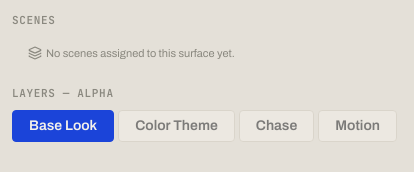
Test: Launcher › gates a layer button while its own toggle is in flight, so a rapid second click can't re-send the same target
Expected: the text "Layers — Alpha" is shown, [12,86,114,100]
Click the button "Base Look": (63, 126) [12,110,114,142]
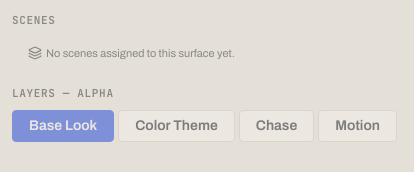
Result: the button "Base Look" is disabled
Click the button "Base Look": (63, 126) [12,110,114,142]
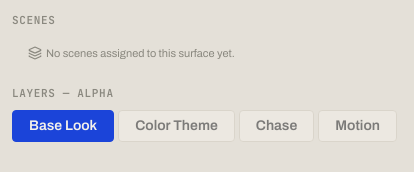
Result: the button "Base Look" is enabled at [12,110,114,142]
